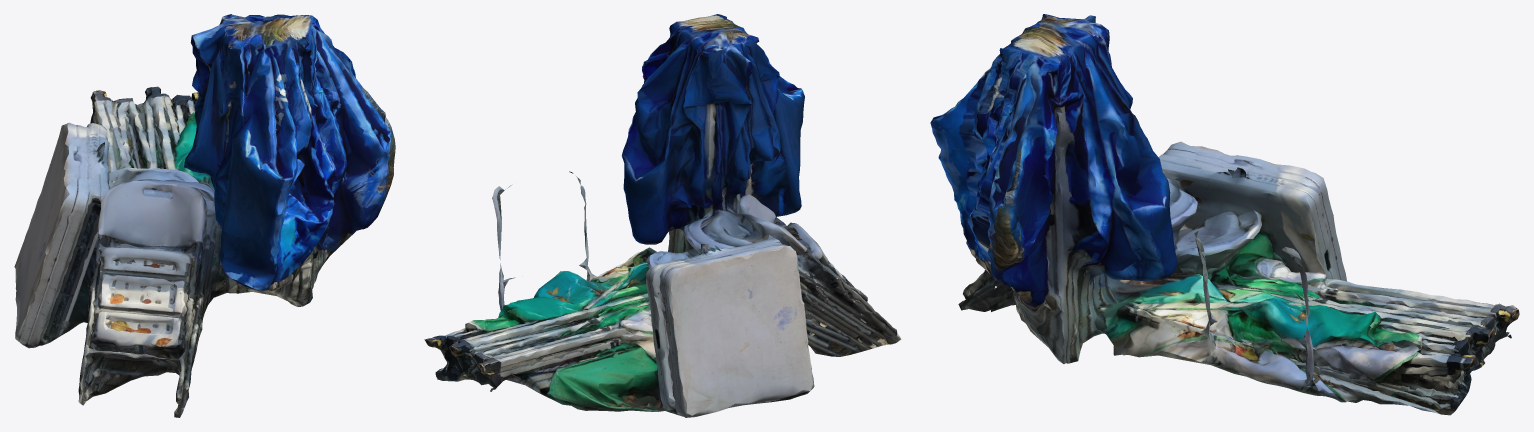
File: jim.gltf
3 renders of one model, left to right at view 1: azimuth 30°, elevation 25°; view 2: azimuth 150°, elevation 25°; view 3: azimuth 270°, elevation 25°, orthographic. The views are drawn at different scales.
Parts seen in each view (by area): view 1: Default; view 2: Default; view 3: Default.
Boxes of the visible parts, x1,y1,x2,y2 form: Default: [14, 14, 395, 417]; Default: [424, 14, 901, 417]; Default: [930, 14, 1519, 415].
Size of the model in its own units: 0.00118 by 0.00109 by 0.00166.
1 material, 1 textured.
